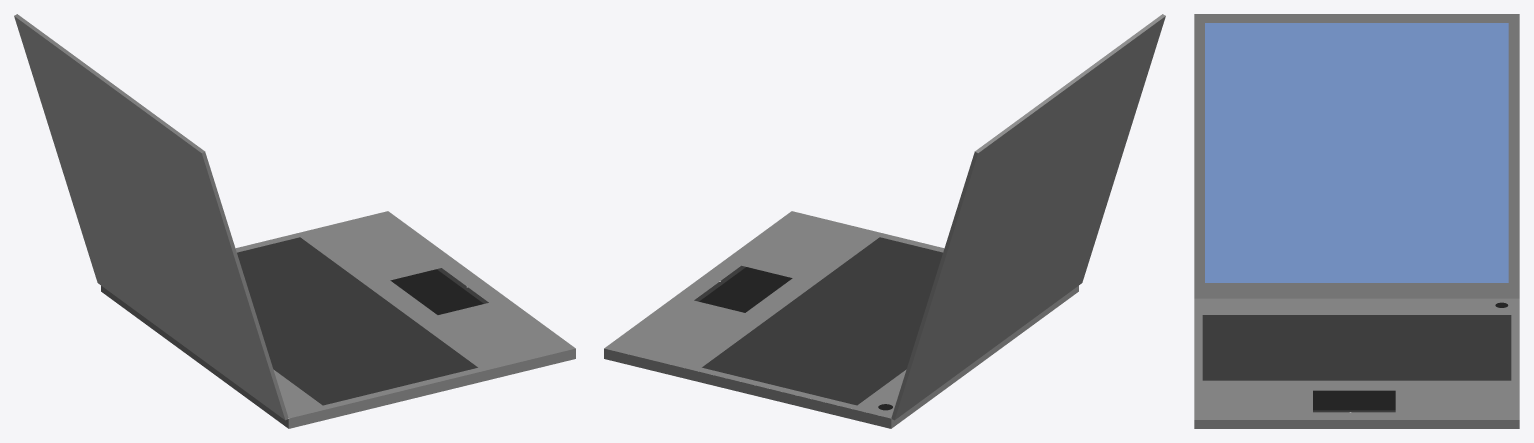
The picture shows the model from 3 angles, left to right: view 1: azimuth 30°, elevation 25°; view 2: azimuth 150°, elevation 25°; view 3: azimuth 270°, elevation 25°; orthographic projection. The views are drawn at different scales.
Visible parts, largest first — view 1: mesh1-geometry-0, mesh1-geometry-2, mesh1-geometry-3; view 2: mesh1-geometry-0, mesh1-geometry-2, mesh1-geometry-3; view 3: mesh1-geometry-1, mesh1-geometry-4, mesh1-geometry-0, mesh1-geometry-2, mesh1-geometry-3.
Part boxes in pixels (x1,y1,x2,y2): mesh1-geometry-0: (14, 14, 575, 428); mesh1-geometry-2: (237, 237, 488, 405); mesh1-geometry-3: (390, 269, 483, 314); mesh1-geometry-0: (604, 14, 1165, 428); mesh1-geometry-2: (694, 237, 942, 405); mesh1-geometry-3: (699, 267, 892, 410); mesh1-geometry-1: (1205, 23, 1508, 412); mesh1-geometry-4: (1205, 23, 1508, 282); mesh1-geometry-0: (1194, 14, 1519, 428); mesh1-geometry-2: (1202, 315, 1511, 412); mesh1-geometry-3: (1313, 302, 1508, 410).
Size of the model in its own units: 0.6544 by 0.4979 by 0.5691.
